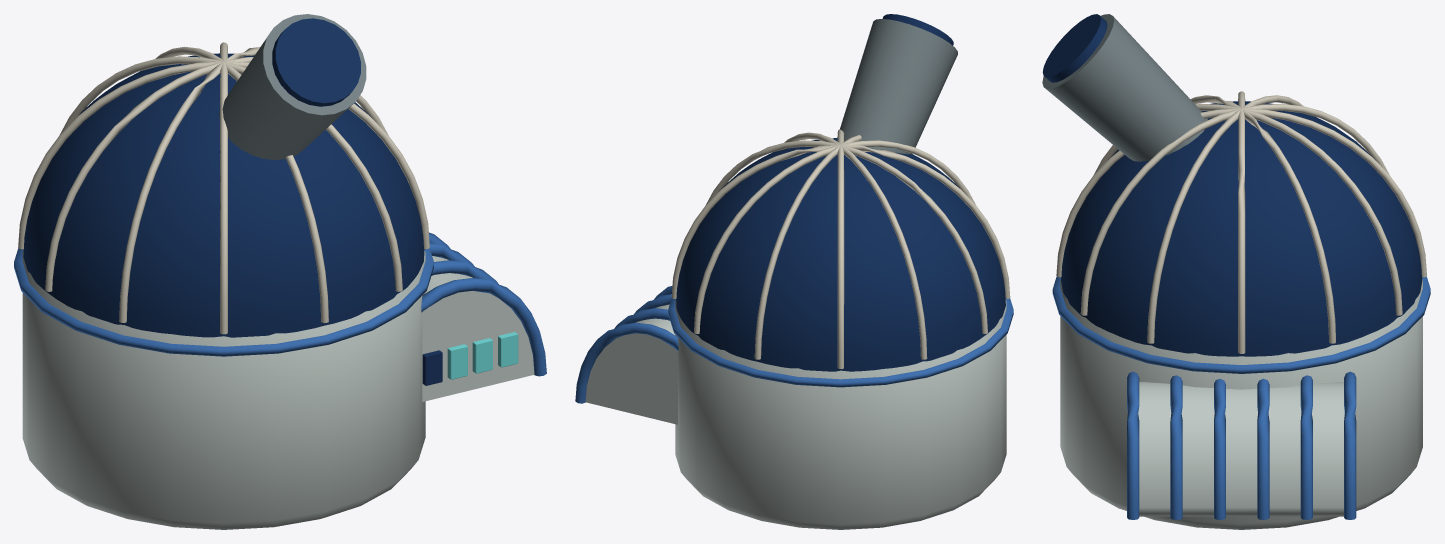
File: cryo_observatory.glb
3 views of the same model, side by side, from view 1: azimuth 30°, elevation 25°; view 2: azimuth 150°, elevation 25°; view 3: azimuth 270°, elevation 25° (orthographic). The views are drawn at different scales.
Parts seen in each view (by area): view 1: cryo_observatory; view 2: cryo_observatory; view 3: cryo_observatory.
Boxes of the visible parts, x1,y1,x2,y2 form: cryo_observatory: (14, 14, 546, 529); cryo_observatory: (575, 14, 1013, 529); cryo_observatory: (1042, 14, 1430, 529).
Size of the model in its own units: 18.06 by 18.9 by 15.21.
